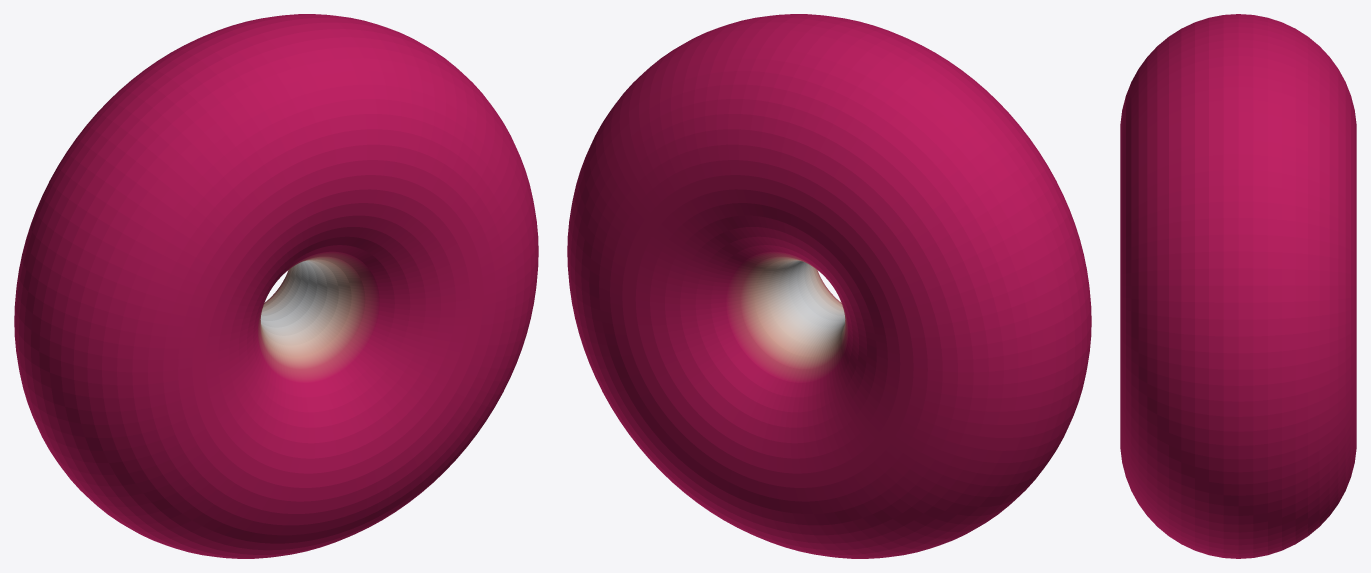
3 renders of one model, left to right at view 1: azimuth 30°, elevation 25°; view 2: azimuth 150°, elevation 25°; view 3: azimuth 270°, elevation 25°, orthographic. The views are drawn at different scales.
Parts seen in each view (by area): view 1: world; view 2: world; view 3: world.
Boxes of the visible parts, x1,y1,x2,y2 form: world: [14, 14, 538, 558]; world: [567, 14, 1091, 558]; world: [1120, 14, 1356, 558].
Size of the model in its own units: 22.4 by 22.4 by 9.71.
